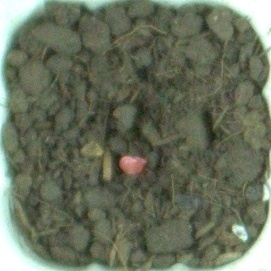chilli seed: (117, 154, 147, 175)
